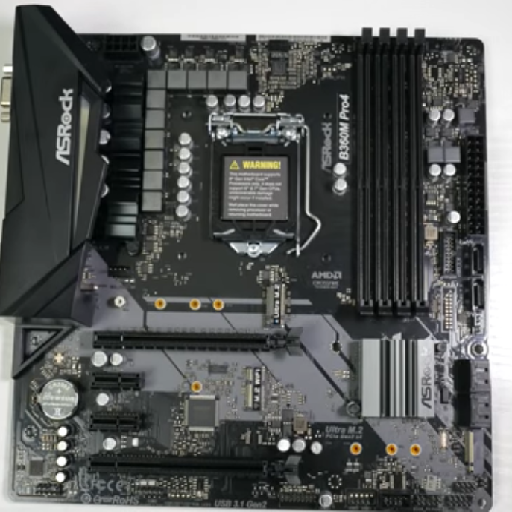CPU: (204, 104, 324, 261)
GPU: (84, 444, 304, 494), (88, 323, 308, 356)
MOTHERBOARD: (1, 4, 498, 502)
RAM: (340, 27, 435, 319)
SSD: (256, 265, 293, 333), (238, 362, 279, 415)
